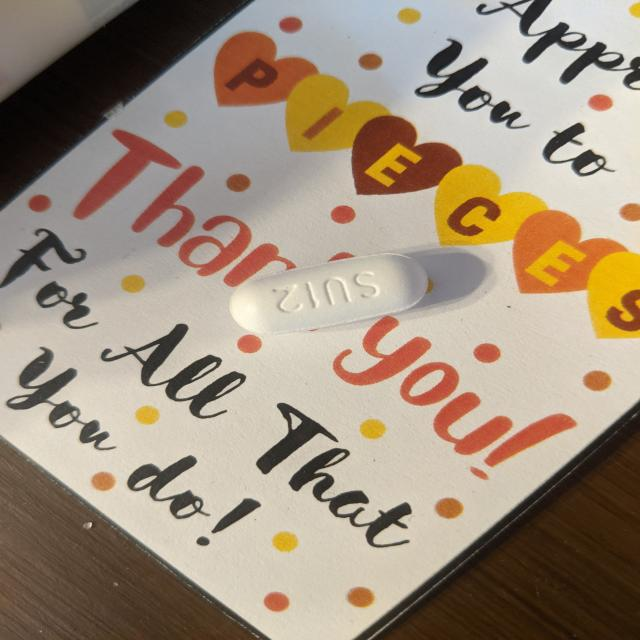non-organic waste: (228, 252, 430, 336)
